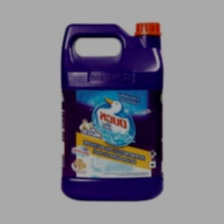cleaning_solution: (56, 16, 170, 205)
